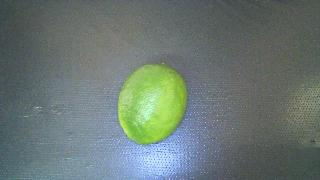EXPORTACION: (118, 64, 187, 145)
